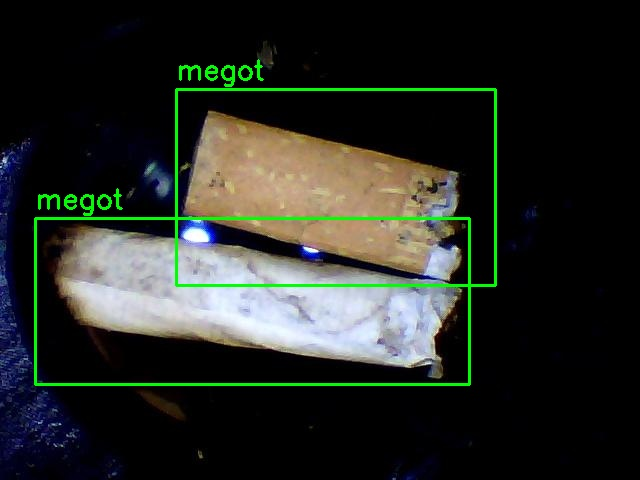megot: (35, 218, 469, 384), (176, 89, 495, 285)
